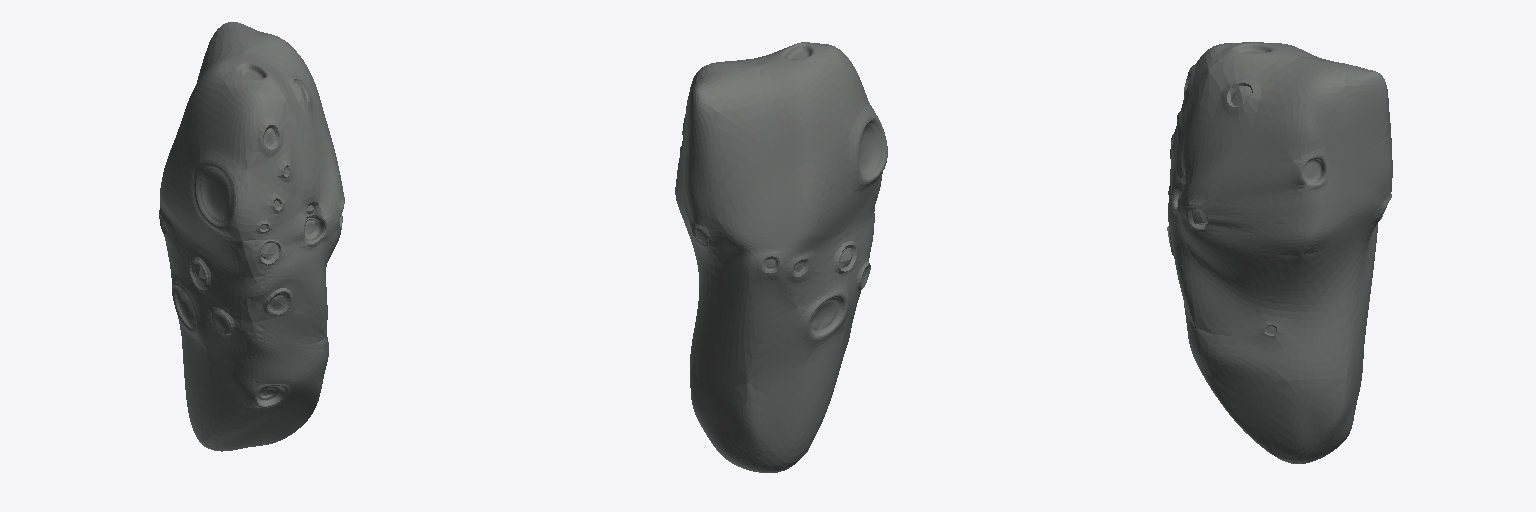
File: asteroid.obj
3 renders of one model, left to right at view 1: azimuth 30°, elevation 25°; view 2: azimuth 150°, elevation 25°; view 3: azimuth 270°, elevation 25°, orthographic.
Visible parts, largest first — view 1: rock_Cube.002; view 2: rock_Cube.002; view 3: rock_Cube.002.
Boxes of the visible parts, x1=… form: rock_Cube.002: x1=159, y1=22, x2=344, y2=451; rock_Cube.002: x1=675, y1=42, x2=887, y2=472; rock_Cube.002: x1=1167, y1=42, x2=1392, y2=463.
Size of the model in its own units: 8.56 by 21.45 by 11.01.